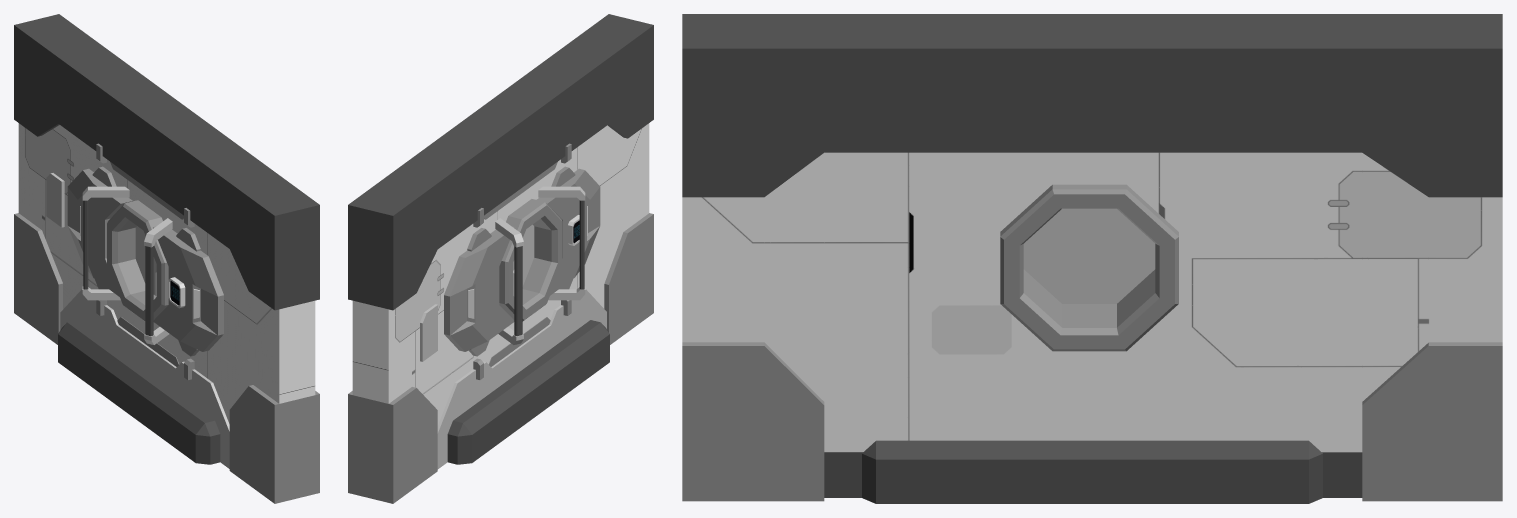
File: SM_Wall_5x3_Vent_1.fbx
3 renders of one model, left to right at view 1: azimuth 30°, elevation 25°; view 2: azimuth 150°, elevation 25°; view 3: azimuth 270°, elevation 25°, orthographic. The views are drawn at different scales.
Parts seen in each view (by area): view 1: SM_Wall_5x3_Vent_1, SM_Wall_5x3_Vent_piece_2; view 2: SM_Wall_5x3_Vent_1, SM_Wall_5x3_Vent_piece_1; view 3: SM_Wall_5x3_Vent_1, SM_Wall_5x3_Vent_piece_2, SM_Wall_5x3_Vent_piece_1.
Part boxes in pixels (left/top/right/bottom): SM_Wall_5x3_Vent_1: left=14, top=14, right=319, bottom=503; SM_Wall_5x3_Vent_piece_2: left=135, top=226, right=156, bottom=295; SM_Wall_5x3_Vent_1: left=348, top=14, right=653, bottom=503; SM_Wall_5x3_Vent_piece_1: left=513, top=224, right=534, bottom=294; SM_Wall_5x3_Vent_1: left=682, top=14, right=1502, bottom=503; SM_Wall_5x3_Vent_piece_2: left=1073, top=208, right=1155, bottom=303; SM_Wall_5x3_Vent_piece_1: left=1023, top=208, right=1089, bottom=303.
Size of the model in its own units: 88.61 by 305 by 500.
